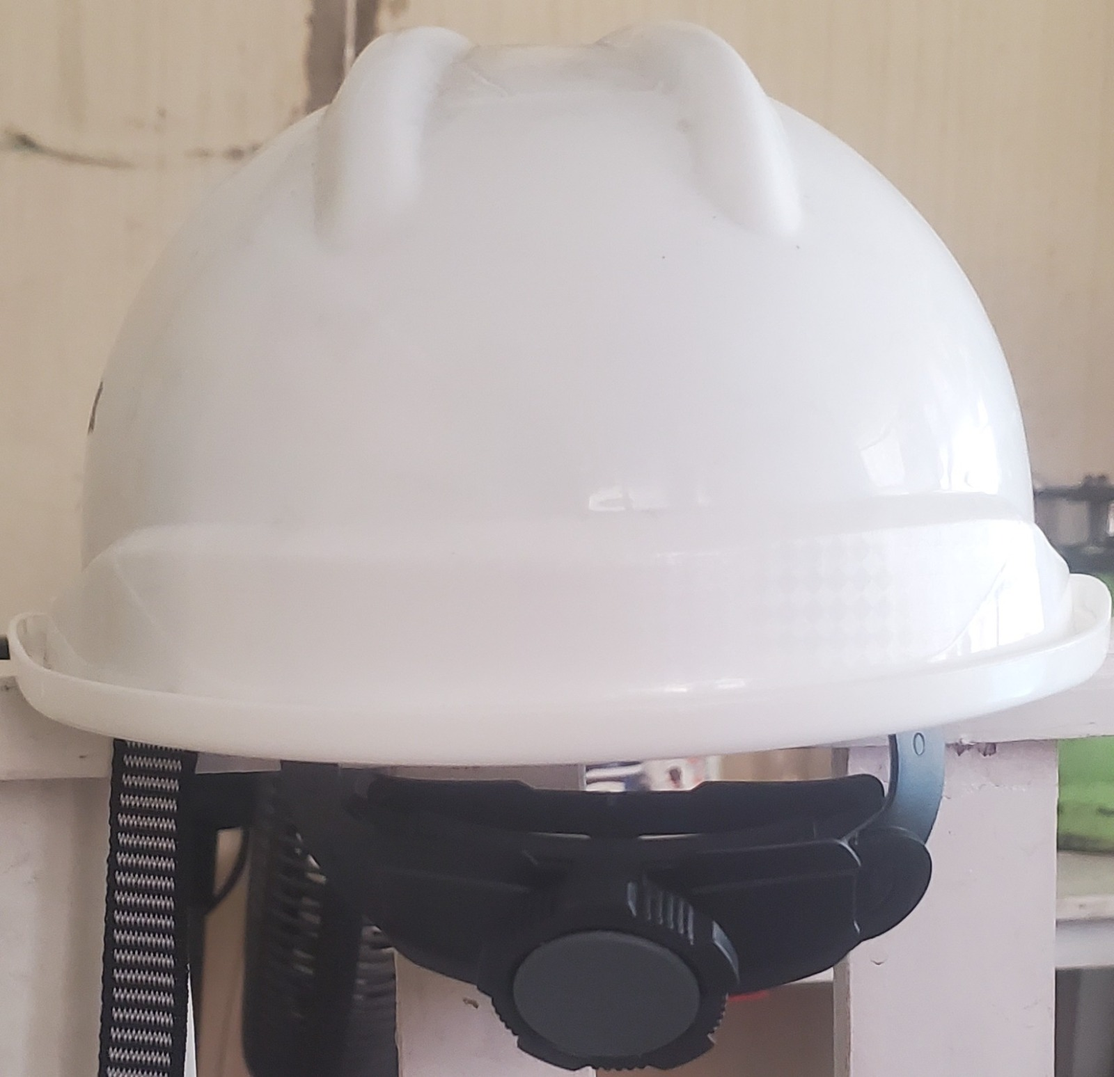helment: (23, 0, 1114, 1077)
